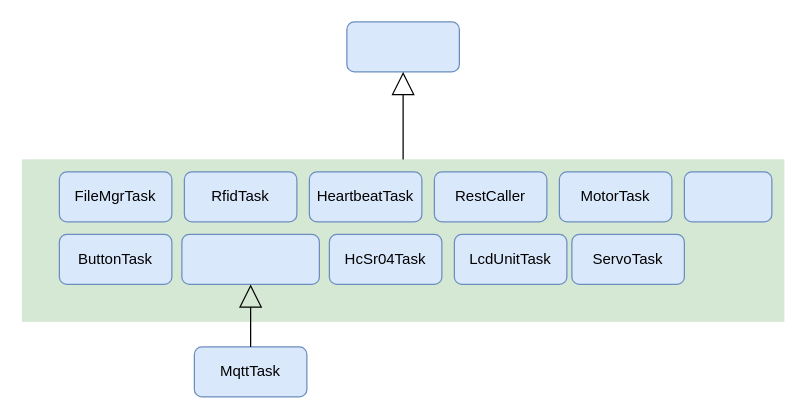
This 805x419 diagram has some shape labels left out. Here are the shapes that lost their labels. From the top down, the box of each, then its label:
(346, 21, 459, 72): Tasks
(683, 171, 772, 222): LedTask
(181, 233, 319, 284): MqttRoutingTask
